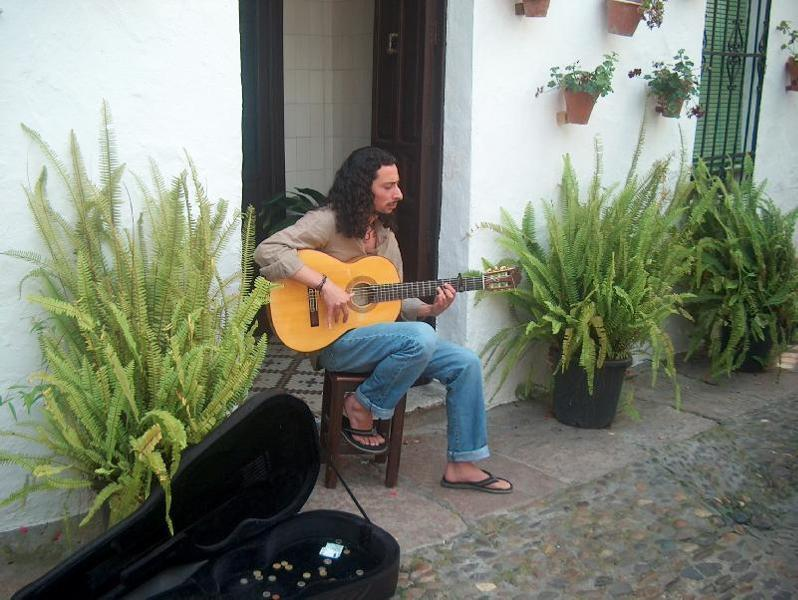person: (253, 147, 516, 494)
